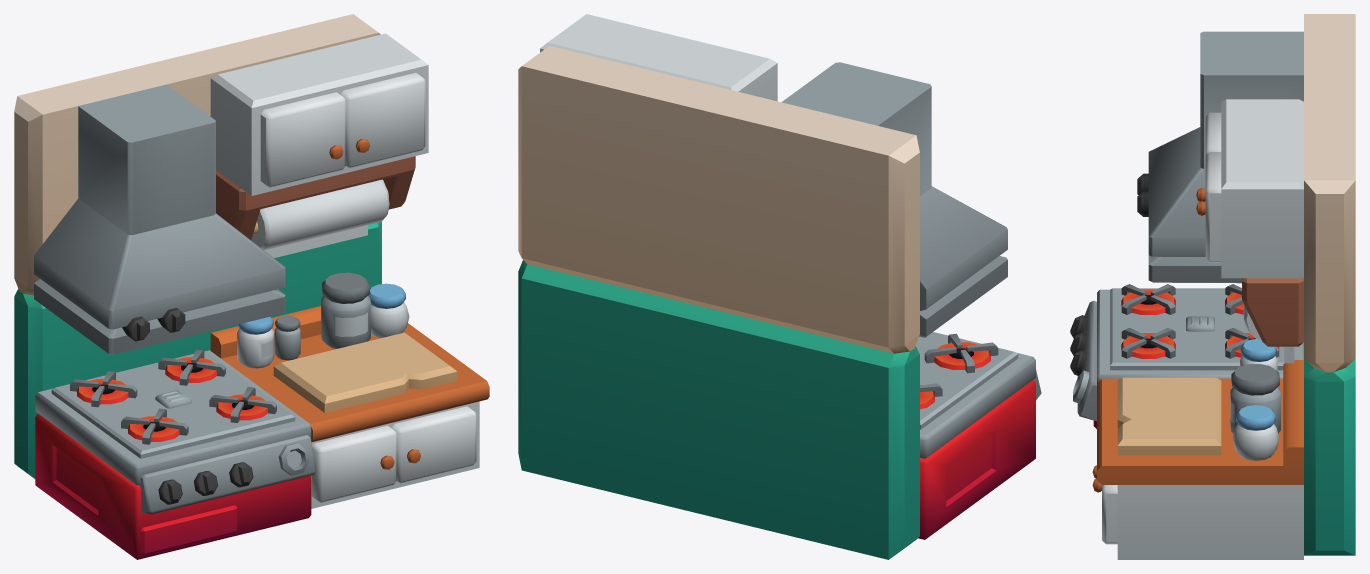
The model's file is wall_decorated_no_pan.glb.
3 renders of one model, left to right at view 1: azimuth 30°, elevation 25°; view 2: azimuth 150°, elevation 25°; view 3: azimuth 270°, elevation 25°, orthographic. The views are drawn at different scales.
Parts seen in each view (by area): view 1: wall_decorated_no_pan; view 2: wall_decorated_no_pan; view 3: wall_decorated_no_pan.
Part boxes in pixels (box(x1,y1,x2,y2)): wall_decorated_no_pan: box(14, 14, 489, 559); wall_decorated_no_pan: box(518, 14, 1041, 559); wall_decorated_no_pan: box(1070, 14, 1355, 559).
Bounding box in the file's own units: 4 × 4 × 2.76.
Materials: 1 (1 with a texture image).
